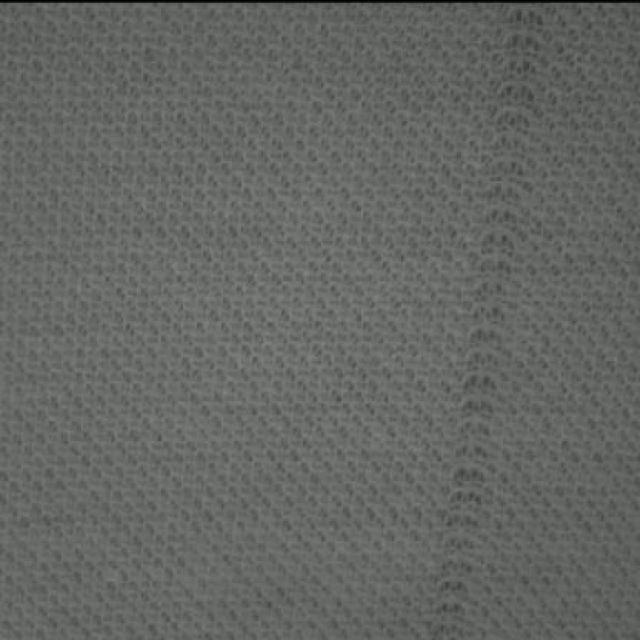Line: (423, 5, 548, 640)
